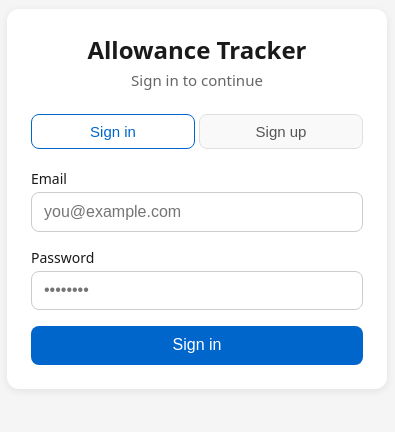
Test: AuthScreen › shows validation error for short password
The width and height of the screenshot is (395, 432).
Type "a@b.co" into the field with placeholder "you@example.com" at coordinates (197, 212), box [31,192,363,232]
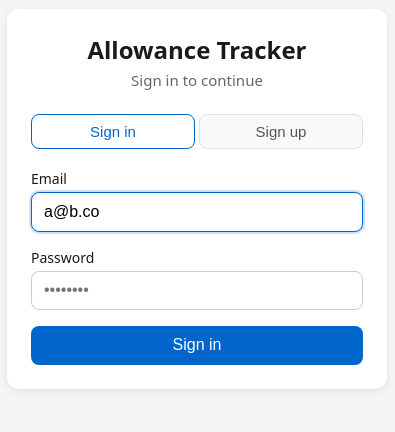
Type "12345" into the password field with placeholder "••••••••" at coordinates (197, 290), box [31,271,363,310]
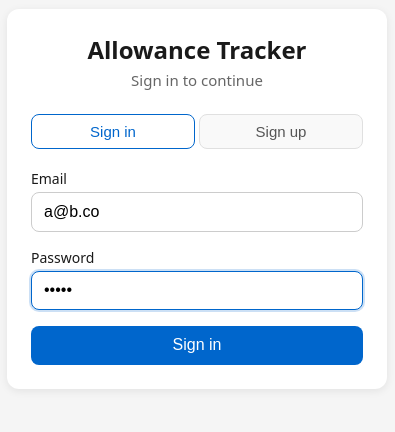
Click the button "Sign in" below "Password" at coordinates (197, 345), box [31,326,363,365]
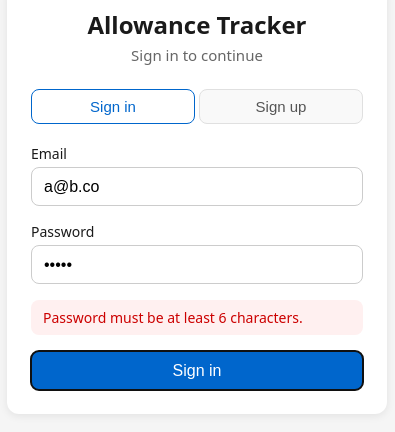
Check: the message shows "at least 6 characters", box [43,308,303,327]
